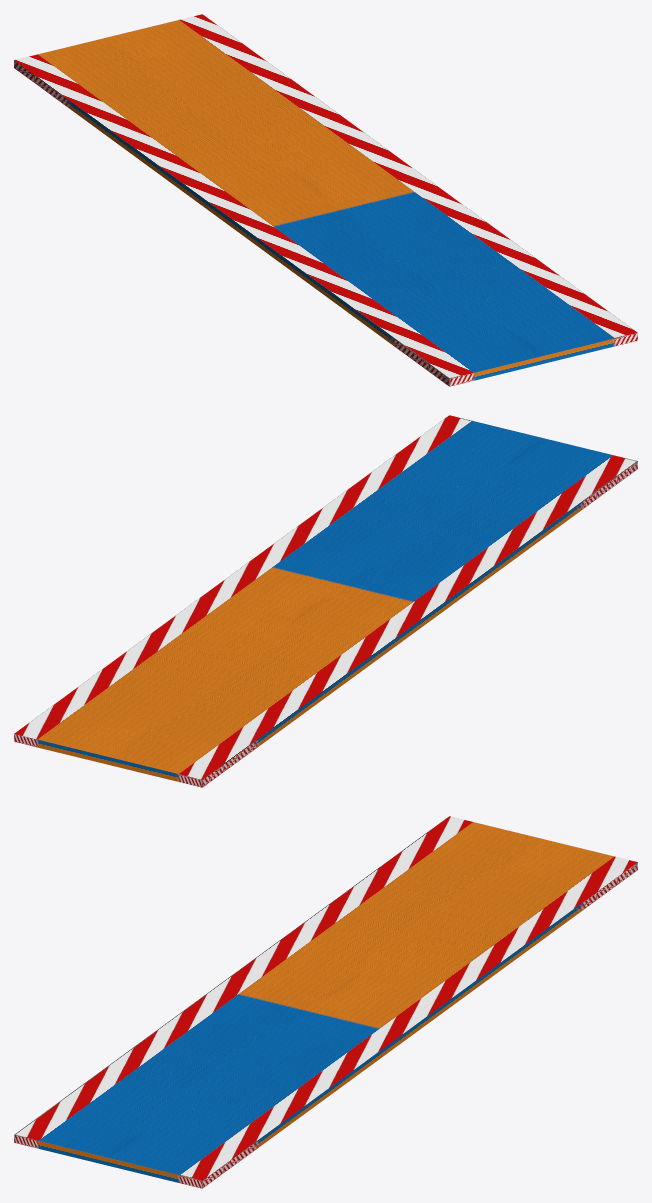
The model's file is Plank_Blend.fbx.
3 renders of one model, top to bottom at view 1: azimuth 30°, elevation 25°; view 2: azimuth 150°, elevation 25°; view 3: azimuth 330°, elevation 25°, orthographic.
Parts seen in each view (by area): view 1: Plank_Blend; view 2: Plank_Blend; view 3: Plank_Blend.
Boxes of the visible parts, left/top/right/bottom form: Plank_Blend: left=14, top=14, right=637, bottom=386; Plank_Blend: left=14, top=415, right=637, bottom=787; Plank_Blend: left=14, top=816, right=637, bottom=1188.
Size of the model in its own units: 2500 by 100 by 10000.
